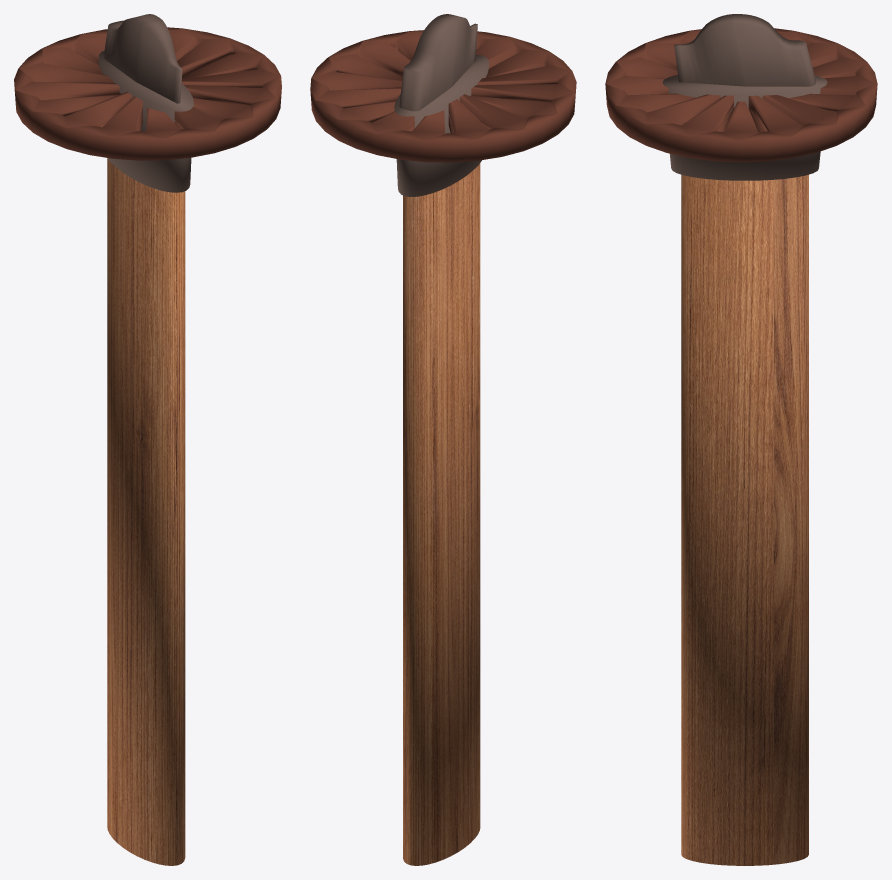
Rendered from Katana-Hilt.fbx.
3 renders of one model, left to right at view 1: azimuth 30°, elevation 25°; view 2: azimuth 150°, elevation 25°; view 3: azimuth 270°, elevation 25°, orthographic. The views are drawn at different scales.
Parts seen in each view (by area): view 1: Cylinder.001, Guard, Ferrule, Cylinder; view 2: Cylinder.001, Guard, Ferrule, Cylinder; view 3: Cylinder.001, Guard, Ferrule, Cylinder.
Boxes of the visible parts, box(x1,y1,x2,y2) form: Cylinder.001: box(107, 158, 185, 865); Guard: box(14, 27, 281, 160); Ferrule: box(103, 14, 182, 103); Cylinder: box(98, 50, 193, 192); Cylinder.001: box(403, 163, 480, 865); Guard: box(310, 30, 576, 162); Ferrule: box(399, 14, 477, 111); Cylinder: box(394, 54, 488, 196); Cylinder.001: box(681, 174, 808, 865); Guard: box(605, 28, 877, 162); Ferrule: box(674, 14, 815, 86); Cylinder: box(662, 75, 827, 180).
Bounding box in the file's own units: 8.68 × 29.38 × 8.68.
